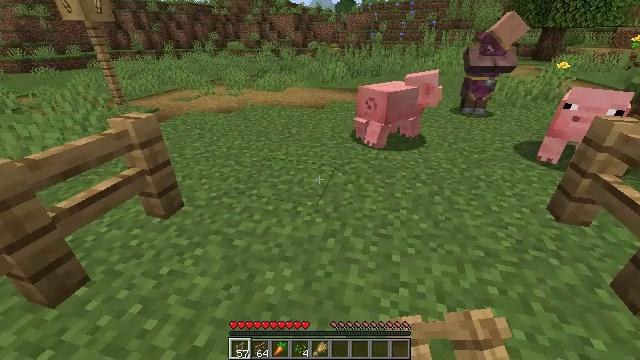pig: (539, 89, 632, 174), (354, 69, 442, 147)
